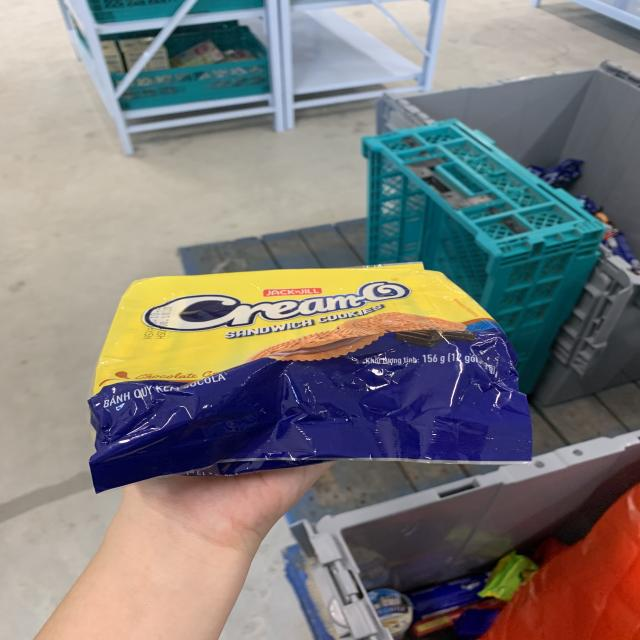object_name: (123, 278, 483, 451)
